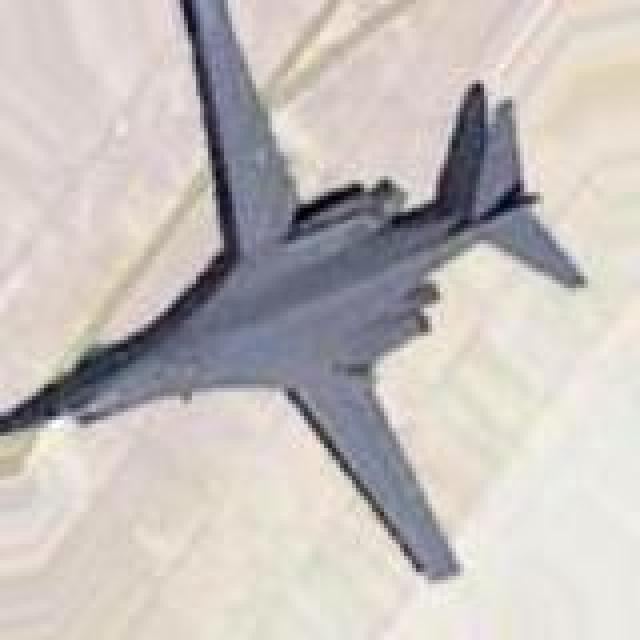B-1_TopDown: (0, 0, 588, 584)
